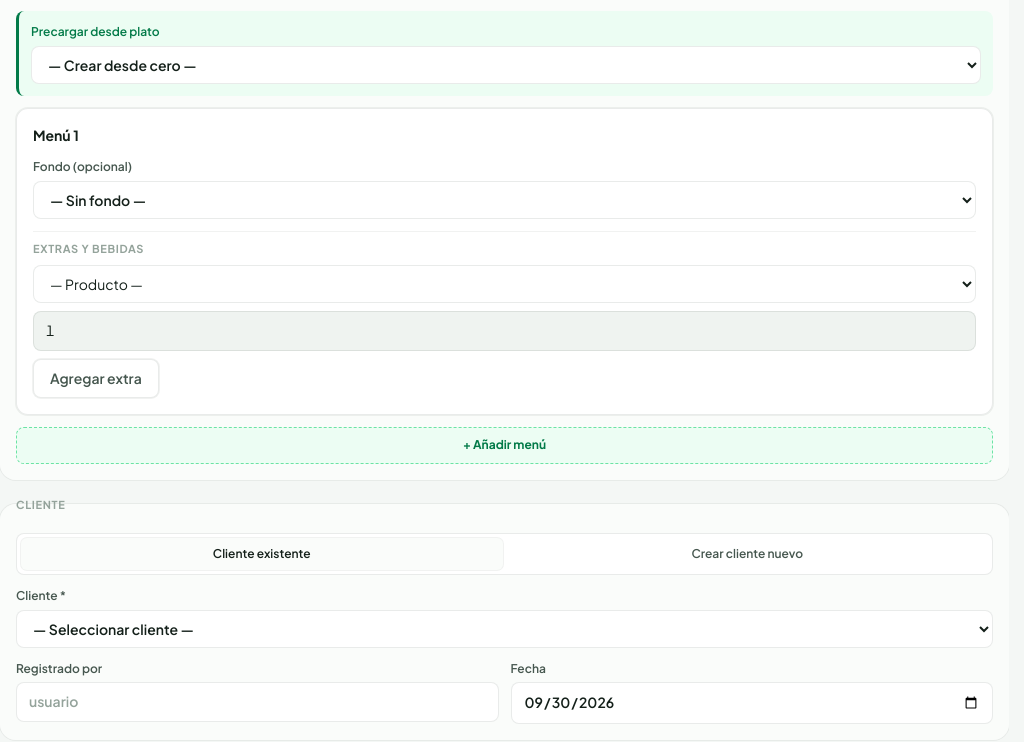
PedidoForm › en modo cliente nuevo, el checkbox "Guardar cliente" aparece desmarcado por defecto
Click the tab "Crear cliente nuevo".
click(747, 554)  # box [506,538,988,570]
(page scrolled)
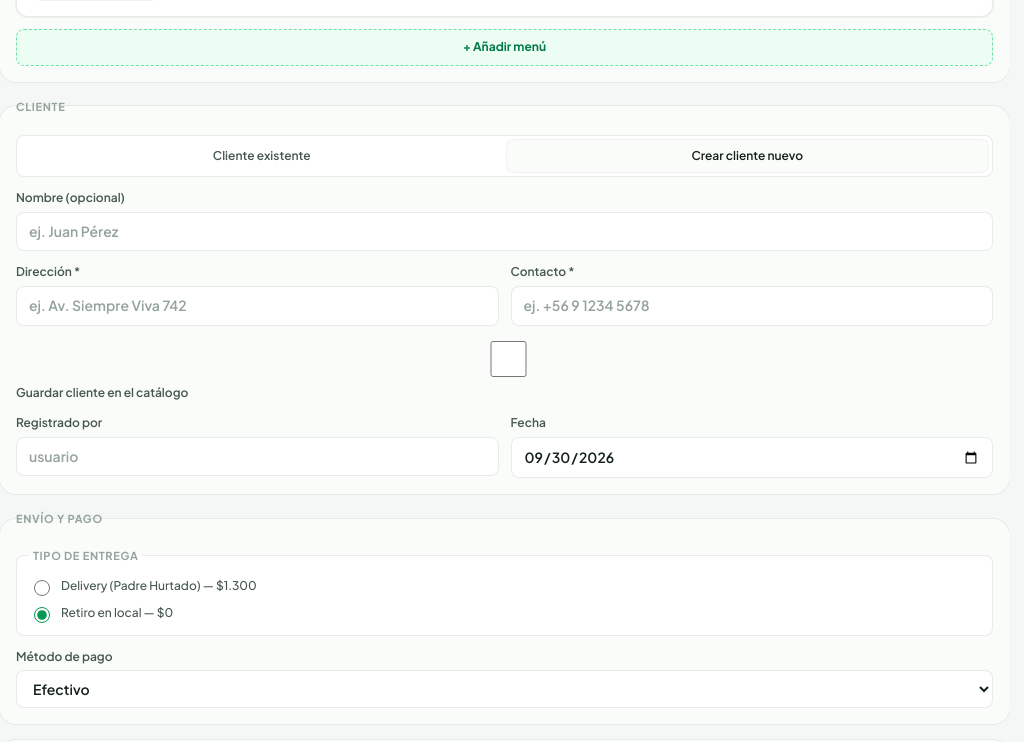
Check: the checkbox labelled "Guardar cliente en el catálogo" is not checked, box [20,340,997,376]
